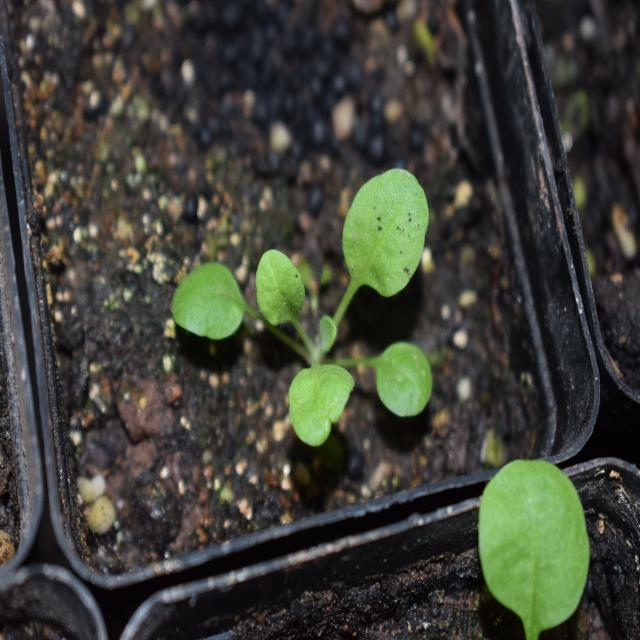Shepherd_Purse: (173, 154, 436, 457)
